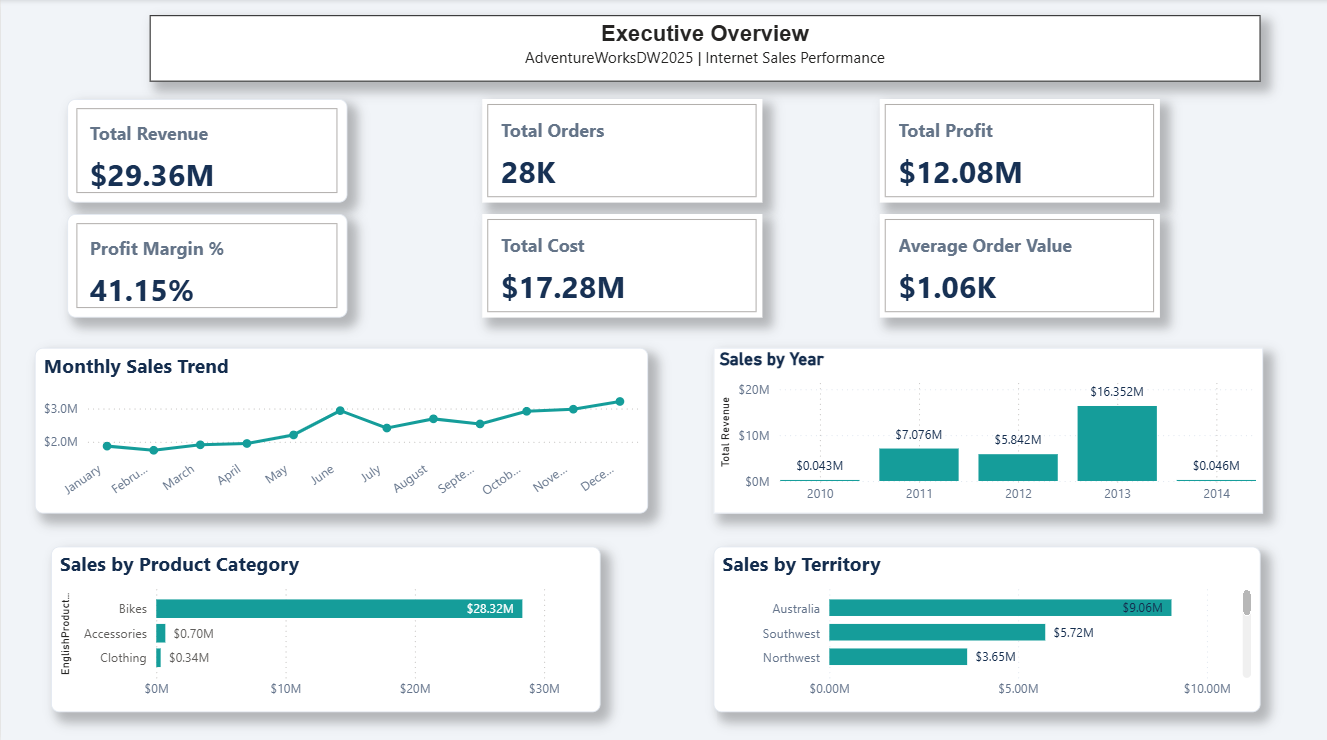

This screenshot's page, from the dashboard's own definition file:
{"tool":"powerbi","page":{"name":"Page 1","canvas":[1280,720],"ordinal":0},"visuals":[{"type":"textbox","box":[144,16,1072,64],"z":0},{"type":"cardVisual","fields":{"Data":["FactInternetSales.Total Revenue"]},"box":[64,96,270,100],"z":1000},{"type":"cardVisual","fields":{"Data":["FactInternetSales.Total Orders"]},"box":[464,96,270,100],"z":2000},{"type":"cardVisual","fields":{"Data":["FactInternetSales.Total Profit"]},"box":[848,96,270,100],"z":3000},{"type":"cardVisual","fields":{"Data":["FactInternetSales.Profit Margin %"]},"box":[64,208,270,100],"z":4000},{"type":"cardVisual","fields":{"Data":["FactInternetSales.Total Cost"]},"box":[464,208,270,100],"z":6000},{"type":"cardVisual","fields":{"Data":["FactInternetSales.Average Order Value"]},"box":[848,208,270,100],"z":7000},{"type":"clusteredColumnChart","title":"Sales by Year","fields":{"Category":["DimDate.CalendarYear"],"Y":["FactInternetSales.Total Revenue"]},"box":[688,336,530,160],"z":10000},{"type":"lineChart","title":"Monthly Sales Trend","fields":{"Category":["DimDate.FullDateAlternateKey.Variation.Date Hierarchy.Year","DimDate.FullDateAlternateKey.Variation.Date Hierarchy.Month"],"Y":["FactInternetSales.Total Revenue"]},"box":[64,336,530,160],"z":11000},{"type":"clusteredBarChart","title":"Sales by Product Category","fields":{"Y":["FactInternetSales.Total Revenue"],"Category":["DimProductCategory.EnglishProductCategoryName"]},"box":[48,528,530,160],"z":12000},{"type":"clusteredBarChart","title":"Sales by Territory","fields":{"Y":["FactInternetSales.Total Revenue"],"Category":["DimSalesTerritory.SalesTerritoryRegion"]},"box":[688,528,528,160],"z":13000}]}

Visuals, with their boxes in screenshot pixels (x1, y1, x2, y2), scaled from the page's 1280x720 canvas onto the 1327x740 screenshot:
textbox: 149,16,1261,82
cardVisual - FactInternetSales.Total Revenue: 66,99,346,201
cardVisual - FactInternetSales.Total Orders: 481,99,761,201
cardVisual - FactInternetSales.Total Profit: 879,99,1159,201
cardVisual - FactInternetSales.Profit Margin %: 66,214,346,317
cardVisual - FactInternetSales.Total Cost: 481,214,761,317
cardVisual - FactInternetSales.Average Order Value: 879,214,1159,317
"Sales by Year" clusteredColumnChart: 713,345,1263,510
"Monthly Sales Trend" lineChart: 66,345,616,510
"Sales by Product Category" clusteredBarChart: 50,543,599,707
"Sales by Territory" clusteredBarChart: 713,543,1261,707
